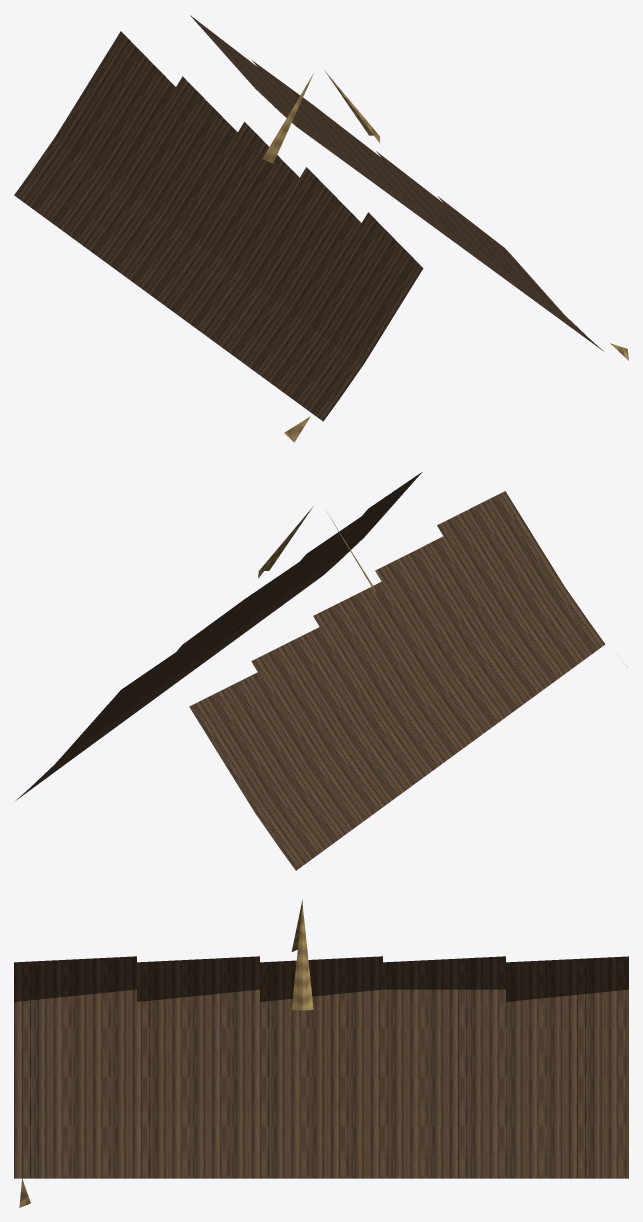
File: Roof_Thatch_8x14_LOD2.gltf
3 views of the same model, one above another, from view 1: azimuth 30°, elevation 25°; view 2: azimuth 150°, elevation 25°; view 3: azimuth 270°, elevation 25° (orthographic).
Visible parts, largest first — view 1: Roof_Thatch_8x14_LOD2; view 2: Roof_Thatch_8x14_LOD2; view 3: Roof_Thatch_8x14_LOD2.
Part boxes in pixels (x1,y1,x2,y2): Roof_Thatch_8x14_LOD2: (14, 15, 628, 442); Roof_Thatch_8x14_LOD2: (16, 472, 627, 870); Roof_Thatch_8x14_LOD2: (14, 900, 628, 1207).
Bounding box in the file's own units: 9.95 × 6.27 × 15.51.
Materials: 2 (2 with a texture image).
